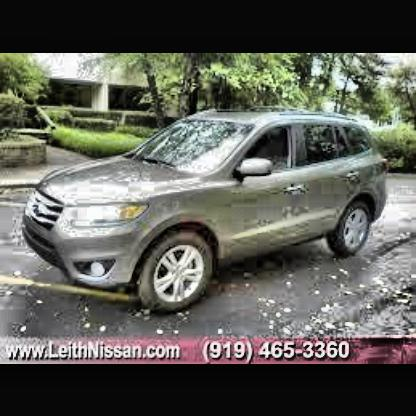Hyundai Santa Fe SUV 2012: (24, 113, 393, 318)
